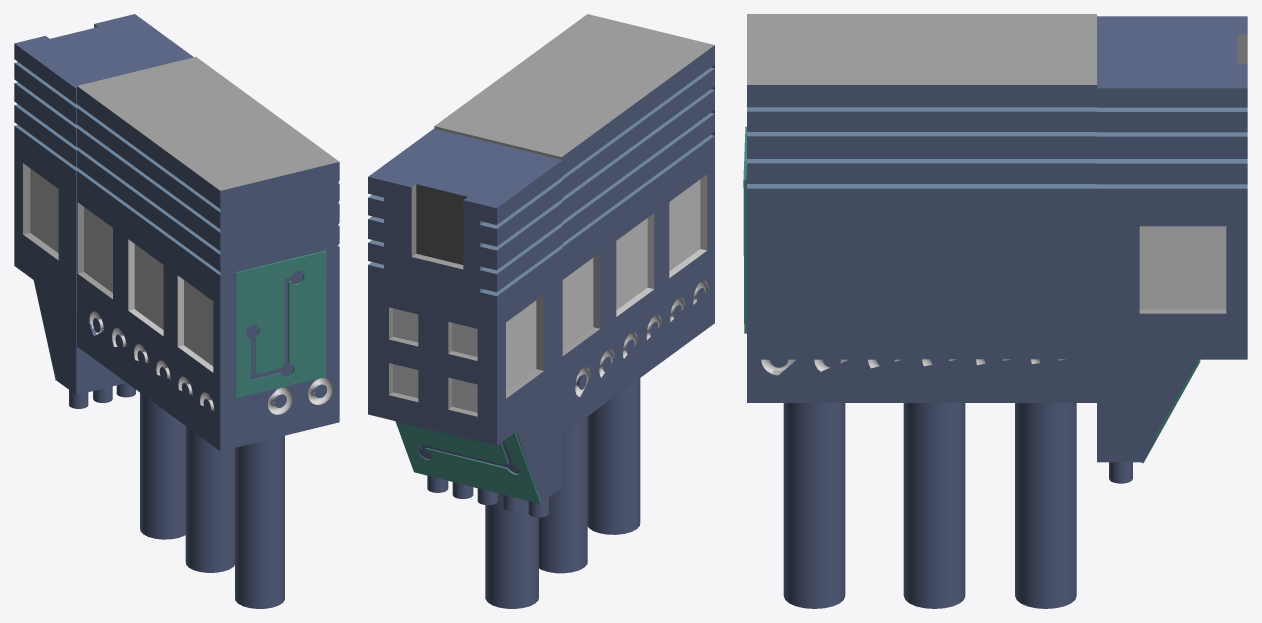
Rendered from Factory.fbx.
3 renders of one model, left to right at view 1: azimuth 30°, elevation 25°; view 2: azimuth 150°, elevation 25°; view 3: azimuth 270°, elevation 25°, orthographic. The views are drawn at different scales.
Parts seen in each view (by area): view 1: pCube47; view 2: pCube47; view 3: pCube47.
Part boxes in pixels (x1,y1,x2,y2): pCube47: (14, 14, 339, 608); pCube47: (368, 14, 714, 608); pCube47: (743, 14, 1247, 608).
Bounding box in the file's own units: 17.2 × 60.15 × 50.71.
